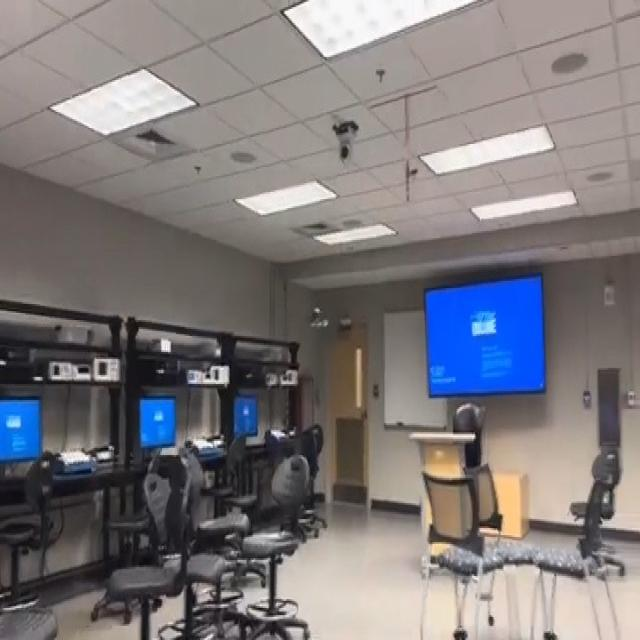drone: (299, 296, 339, 345)
